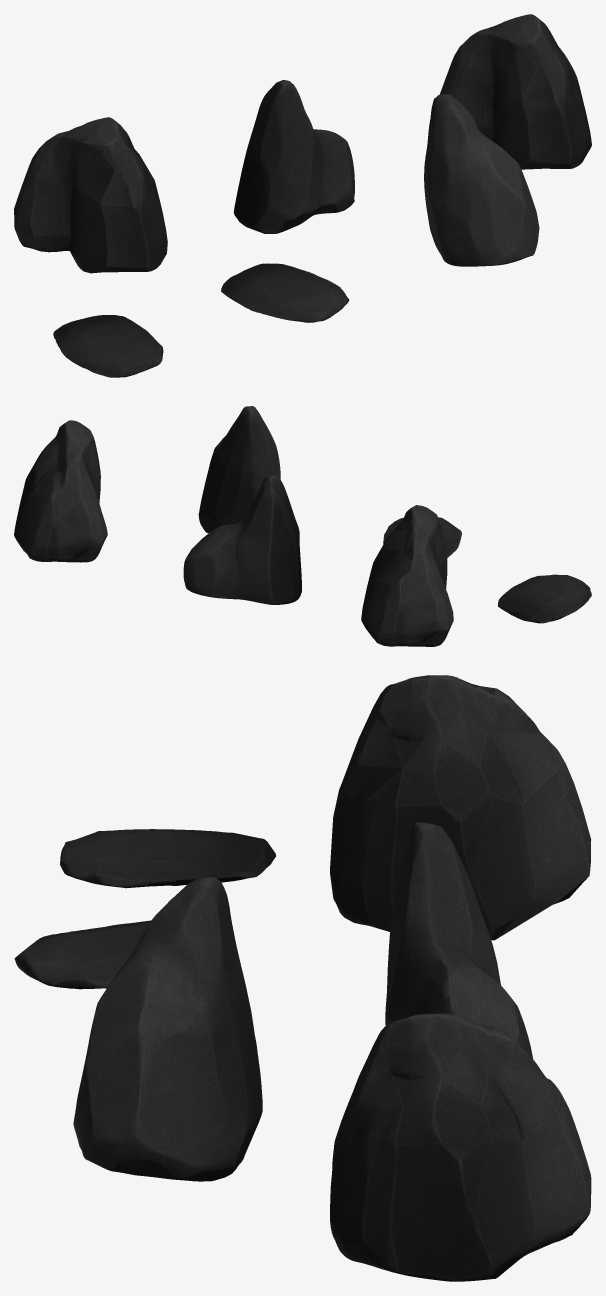
The model's file is BigRock.fbx.
3 views of the same model, one above another, from view 1: azimuth 30°, elevation 25°; view 2: azimuth 150°, elevation 25°; view 3: azimuth 270°, elevation 25° (orthographic). The views are drawn at different scales.
Visible parts, largest first — view 1: rock_018_mesh1, rock_018_mesh, rock_017_mesh, rock_020_mesh, rock_015_mesh, rock_014_mesh; view 2: rock_020_mesh, rock_018_mesh, rock_018_mesh1, rock_017_mesh, rock_014_mesh, rock_015_mesh; view 3: rock_018_mesh, rock_018_mesh1, rock_017_mesh, rock_020_mesh, rock_014_mesh, rock_015_mesh.
Boxes of the visible parts, x1=… form: rock_018_mesh1: x1=14, y1=117, x2=167, y2=273; rock_018_mesh: x1=440, y1=14, x2=591, y2=169; rock_017_mesh: x1=424, y1=94, x2=539, y2=266; rock_020_mesh: x1=233, y1=80, x2=354, y2=233; rock_015_mesh: x1=221, y1=263, x2=349, y2=322; rock_014_mesh: x1=53, y1=315, x2=163, y2=377; rock_020_mesh: x1=183, y1=475, x2=301, y2=604; rock_018_mesh: x1=14, y1=420, x2=107, y2=562; rock_018_mesh1: x1=361, y1=505, x2=453, y2=646; rock_017_mesh: x1=198, y1=406, x2=280, y2=533; rock_014_mesh: x1=498, y1=574, x2=591, y2=623; rock_015_mesh: x1=383, y1=517, x2=461, y2=557; rock_018_mesh: x1=330, y1=1013, x2=591, y2=1281; rock_018_mesh1: x1=330, y1=675, x2=591, y2=940; rock_017_mesh: x1=73, y1=877, x2=262, y2=1181; rock_020_mesh: x1=385, y1=822, x2=532, y2=1058; rock_014_mesh: x1=60, y1=829, x2=275, y2=888; rock_015_mesh: x1=14, y1=920, x2=151, y2=989.
Bounding box in the file's own units: 1919 × 516 × 986.
